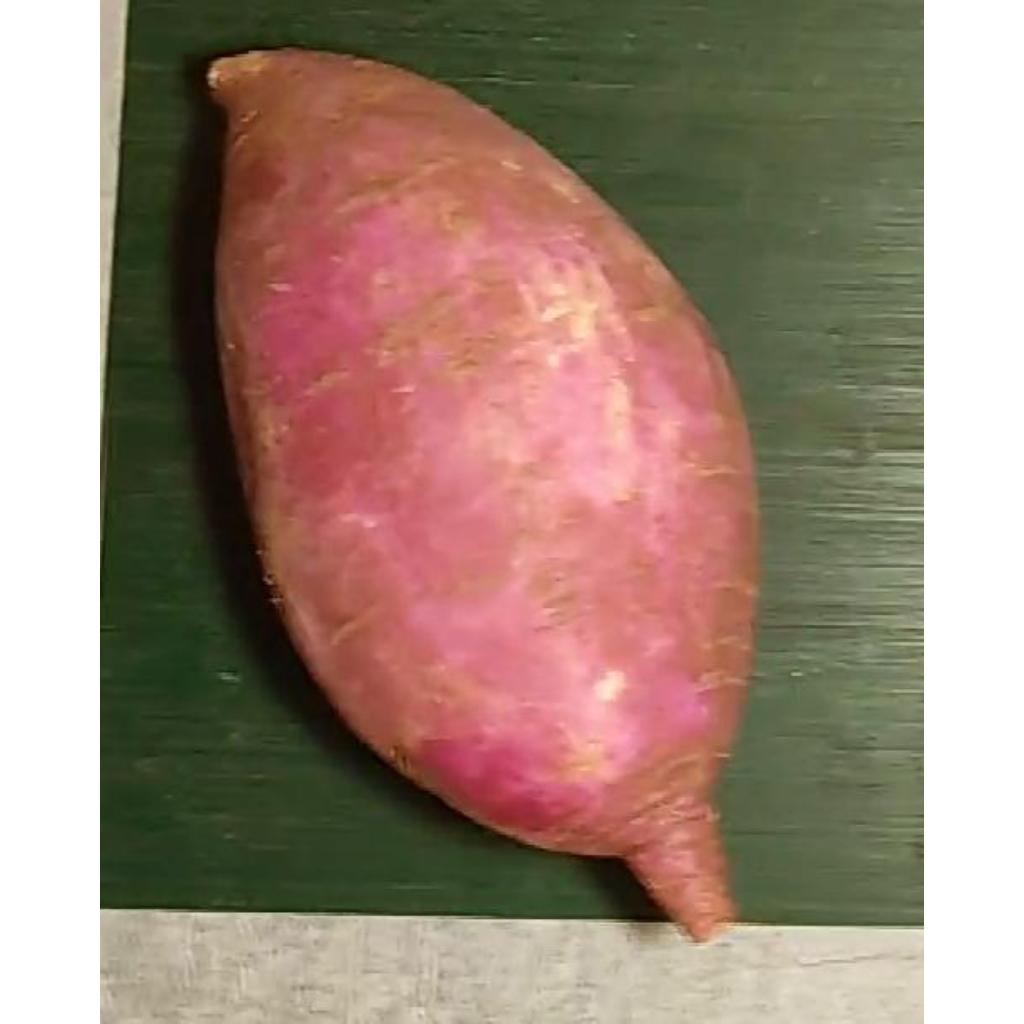Sweet Potato: (204, 49, 762, 948)
